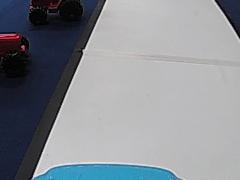Tracktor: (0, 30, 31, 76), (25, 0, 84, 24)
